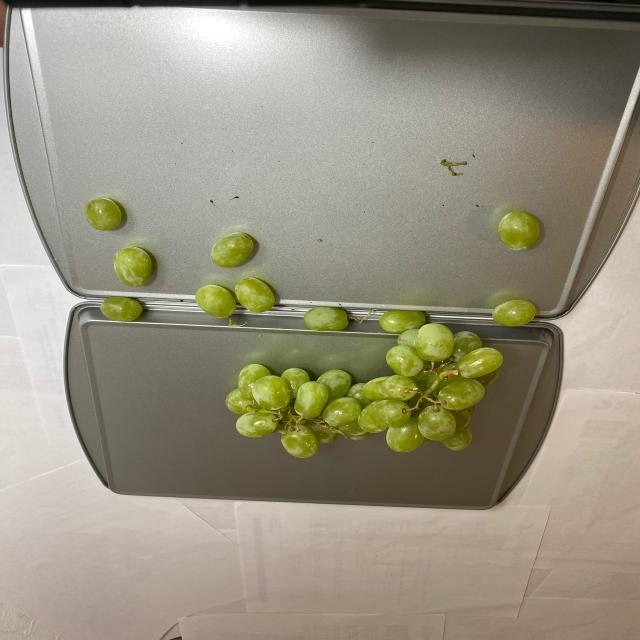grapes: (85, 197, 533, 454)
